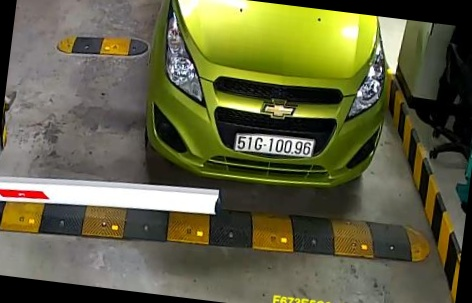plate: (228, 125, 318, 164)
